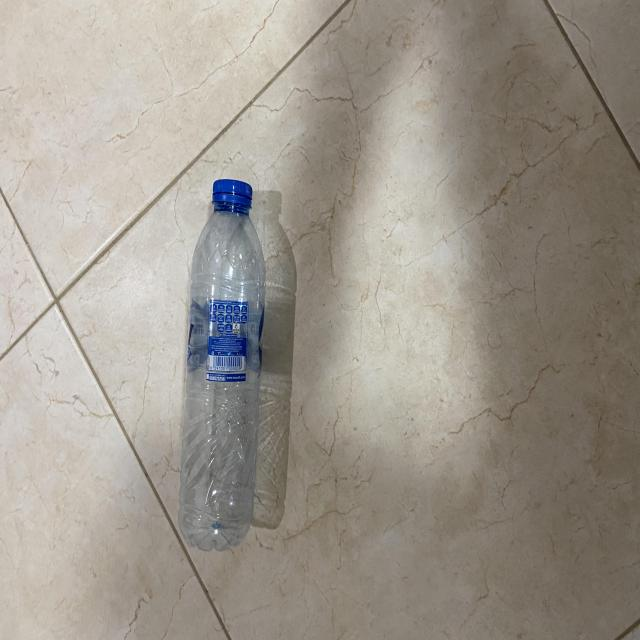bottle: (177, 170, 270, 556)
